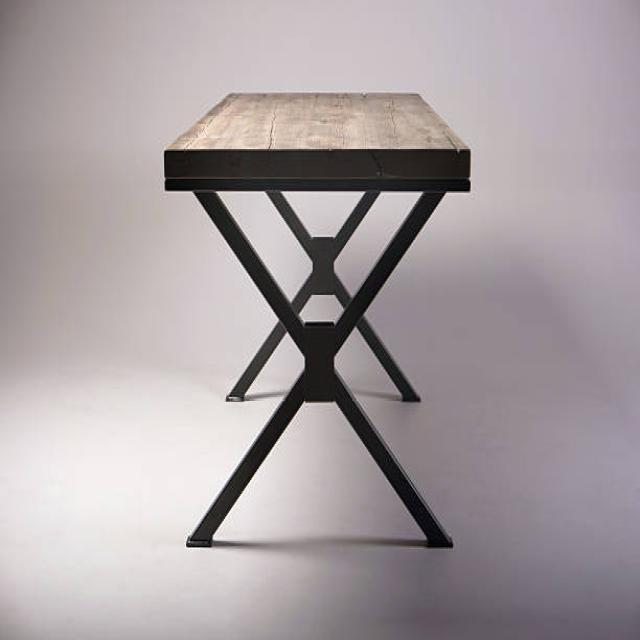table: (163, 90, 472, 550)
